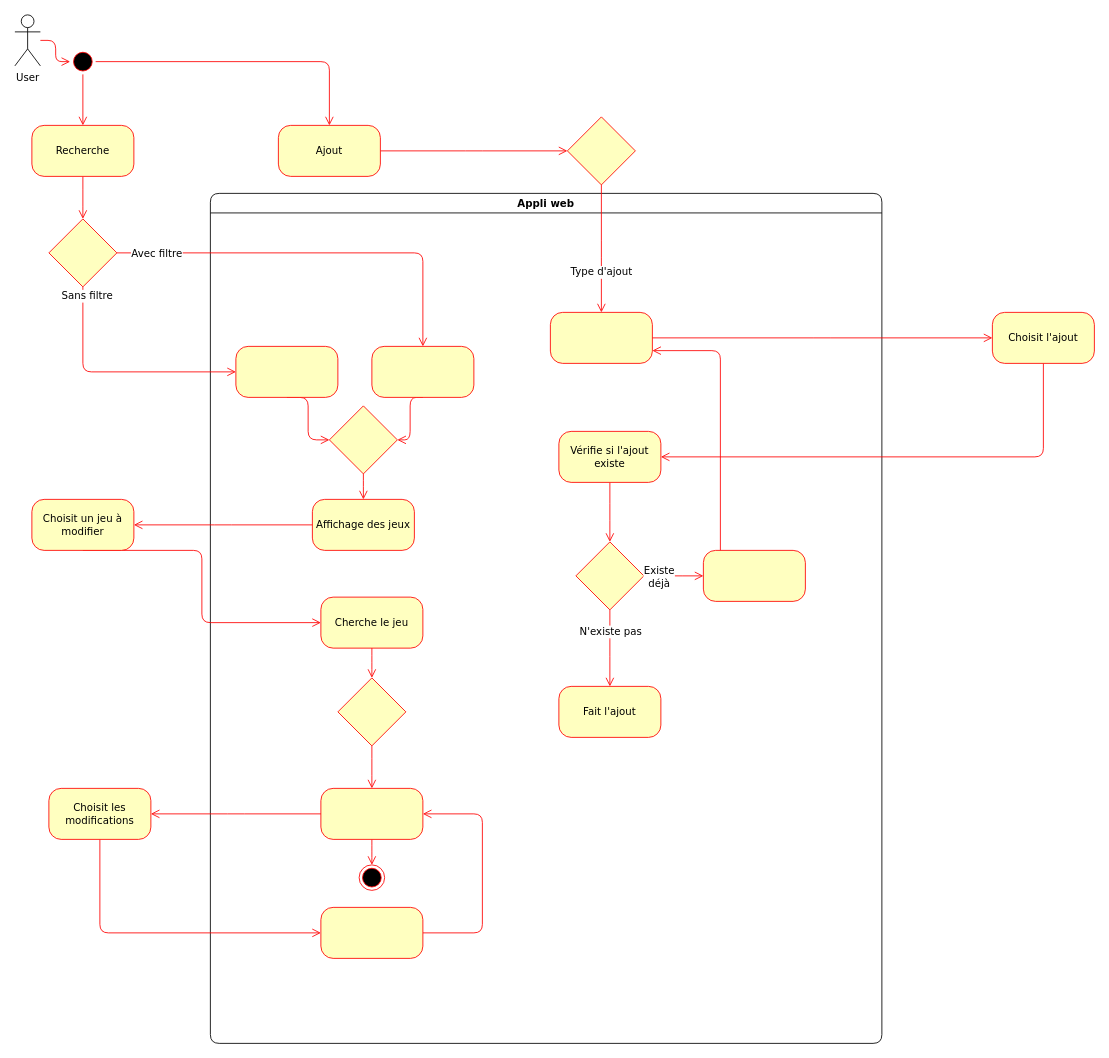
Image size: 1109x1058. Some labels were removed from this diagram. Each missing label, with the centre of its shape:
Affiche la page de modification du jeu: pixel 371 813
Affiche la page du type d'ajout: pixel 601 337
Cherche les jeux filtrés: pixel 422 371
Cherche tous les jeux: pixel 286 371
Enregistre les modifications: pixel 371 932
Message d'alerte: pixel 754 575
